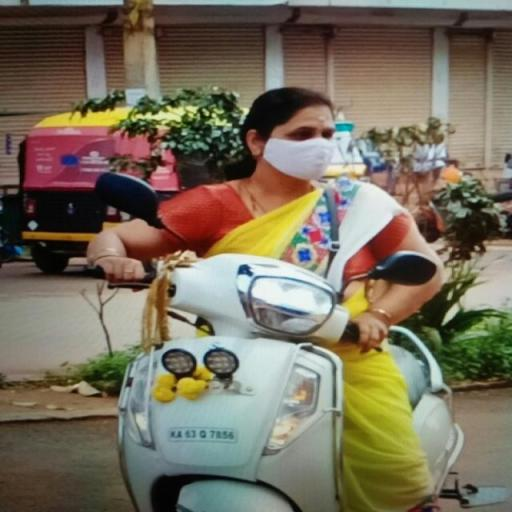bike: (76, 80, 494, 512)
numberplate: (162, 424, 240, 444)
withouthelmet: (248, 88, 338, 178)
